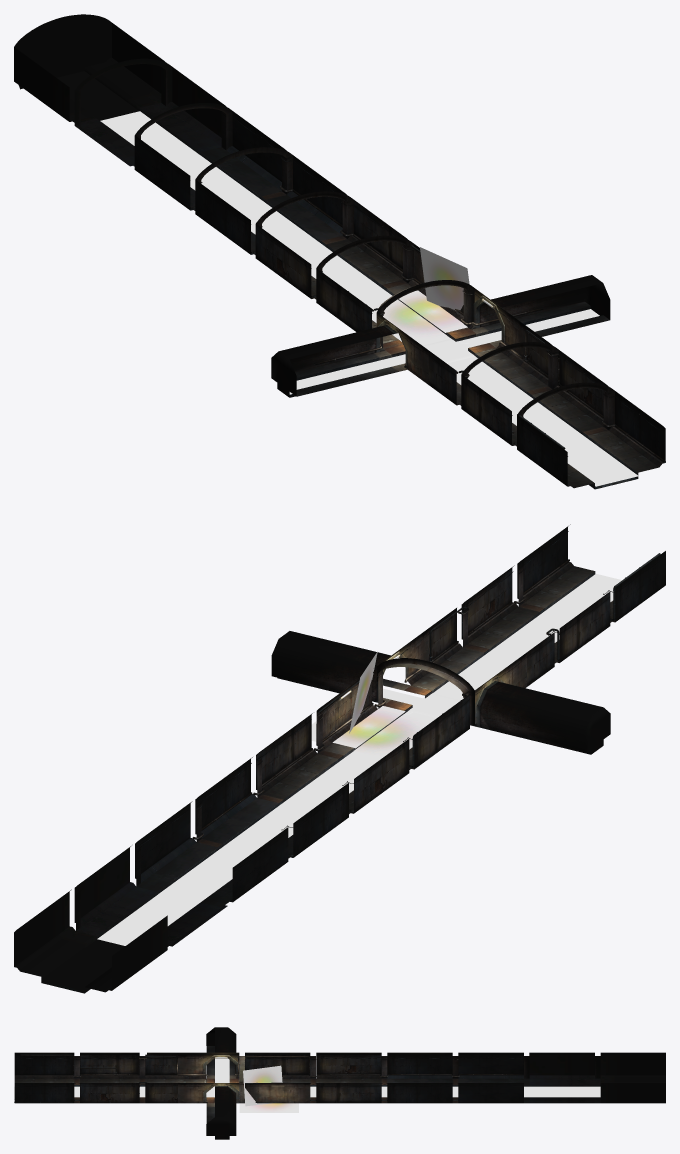
3 views of the same model, one above another, from view 1: azimuth 30°, elevation 25°; view 2: azimuth 150°, elevation 25°; view 3: azimuth 270°, elevation 25° (orthographic). The views are drawn at different scales.
Parts seen in each view (by area): view 1: kabe06, dnmn05, kabe036, water_01, kabe017, plash_01, water_02, paip06, water_kari, kabe05, yuragi01; view 2: kabe06, kabe017, dnmn05, water_01, plash_01, kabe036, paip06, water_02, water_kari, kabe05, yuragi01; view 3: kabe06, dnmn05, kabe017, paip06, tnjo04, plash_01, kabe05, kabe036, water_02, water_01, njo04, hisn010.
Boxes of the visible parts, left/top/right/bottom form: kabe06: left=14, top=23, right=665, bottom=486; dnmn05: left=190, top=146, right=664, bottom=489; kabe036: left=14, top=14, right=614, bottom=430; water_01: left=172, top=155, right=638, bottom=486; kabe017: left=271, top=275, right=610, bottom=397; plash_01: left=368, top=247, right=469, bottom=342; water_02: left=100, top=111, right=626, bottom=486; paip06: left=153, top=137, right=665, bottom=462; water_kari: left=56, top=71, right=636, bottom=486; kabe05: left=386, top=244, right=463, bottom=331; yuragi01: left=423, top=338, right=475, bottom=363; kabe06: left=14, top=527, right=665, bottom=992; kabe017: left=271, top=629, right=610, bottom=754; dnmn05: left=135, top=562, right=615, bottom=907; water_01: left=158, top=574, right=621, bottom=904; plash_01: left=311, top=651, right=432, bottom=757; kabe036: left=76, top=565, right=525, bottom=930; paip06: left=165, top=549, right=660, bottom=901; water_02: left=97, top=894, right=197, bottom=945; water_kari: left=42, top=939, right=125, bottom=990; kabe05: left=316, top=679, right=399, bottom=757; yuragi01: left=408, top=693, right=460, bottom=717; kabe06: left=14, top=1054, right=665, bottom=1103; dnmn05: left=14, top=1046, right=529, bottom=1123; kabe017: left=178, top=1027, right=239, bottom=1139; paip06: left=14, top=1054, right=523, bottom=1103; tnjo04: left=14, top=1052, right=665, bottom=1054; plash_01: left=239, top=1065, right=298, bottom=1112; kabe05: left=245, top=1083, right=310, bottom=1103; kabe036: left=74, top=1056, right=600, bottom=1103; water_02: left=529, top=1086, right=600, bottom=1097; water_01: left=14, top=1058, right=528, bottom=1098; njo04: left=147, top=1052, right=310, bottom=1054; hisn010: left=15, top=1057, right=523, bottom=1084.
Bounding box in the file's own units: 0.2606 × 0.0509 × 0.798.
Materials: 15 (11 with a texture image).
